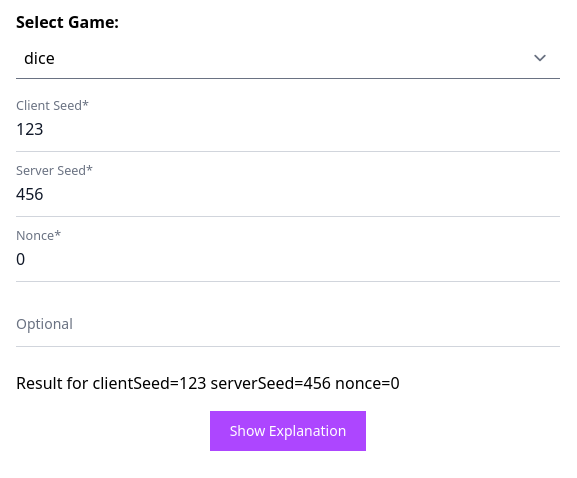
Test: VerifierForm Component › default values set if not provided › game change
Select "plinko" in the dropdown labelled "Select Game:": (288, 58) [16,38,560,79]
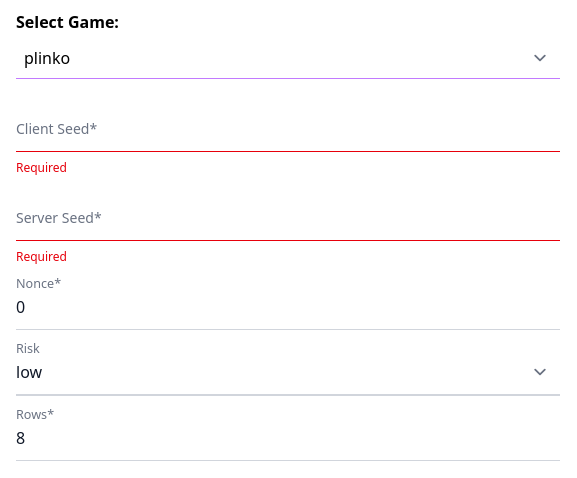
Result: the dropdown labelled "Risk" shows "low" at [16,350,560,396]
Result: the number field labelled "Rows*" holds "8" at [16,416,560,461]
